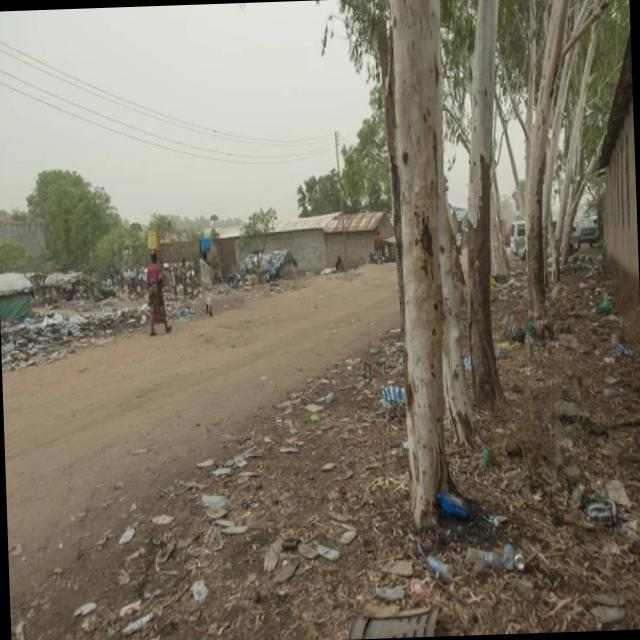garbage: (156, 418, 365, 618), (498, 292, 618, 562), (0, 289, 103, 384)
